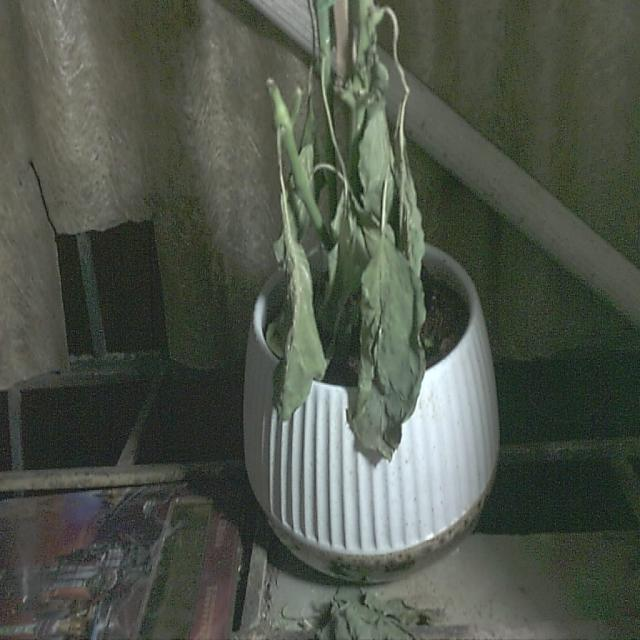Leaf: (349, 233, 427, 464), (271, 198, 328, 424)
